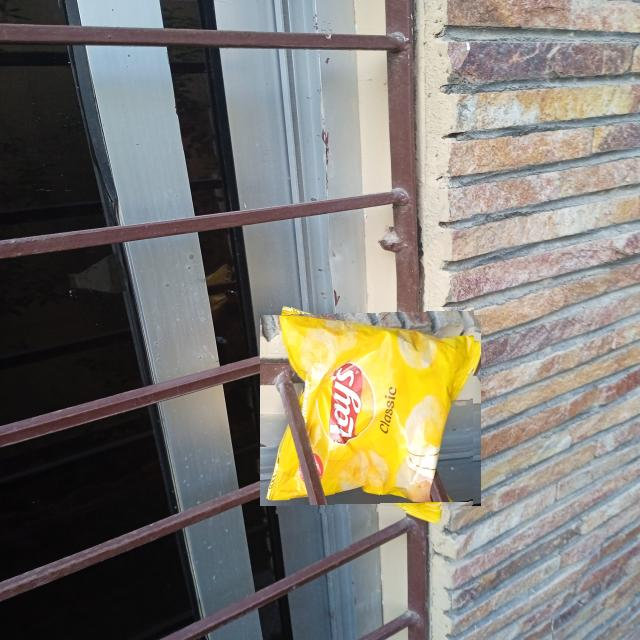Plastic: (268, 307, 474, 514)
